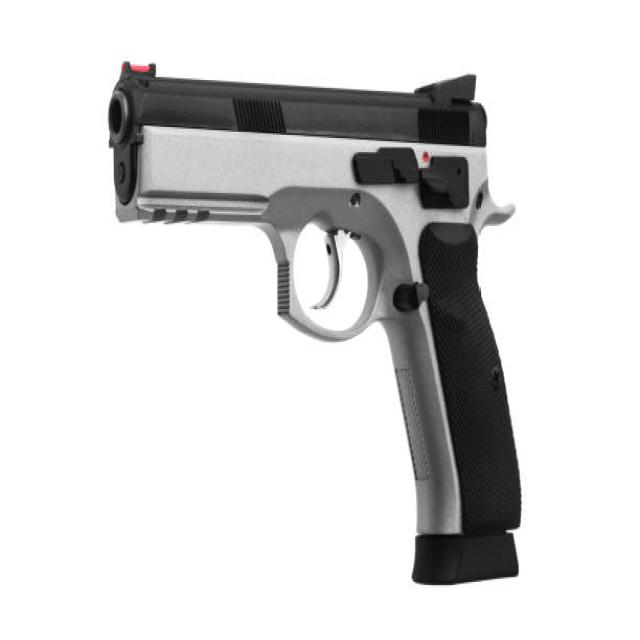pistol: (104, 46, 533, 599)
